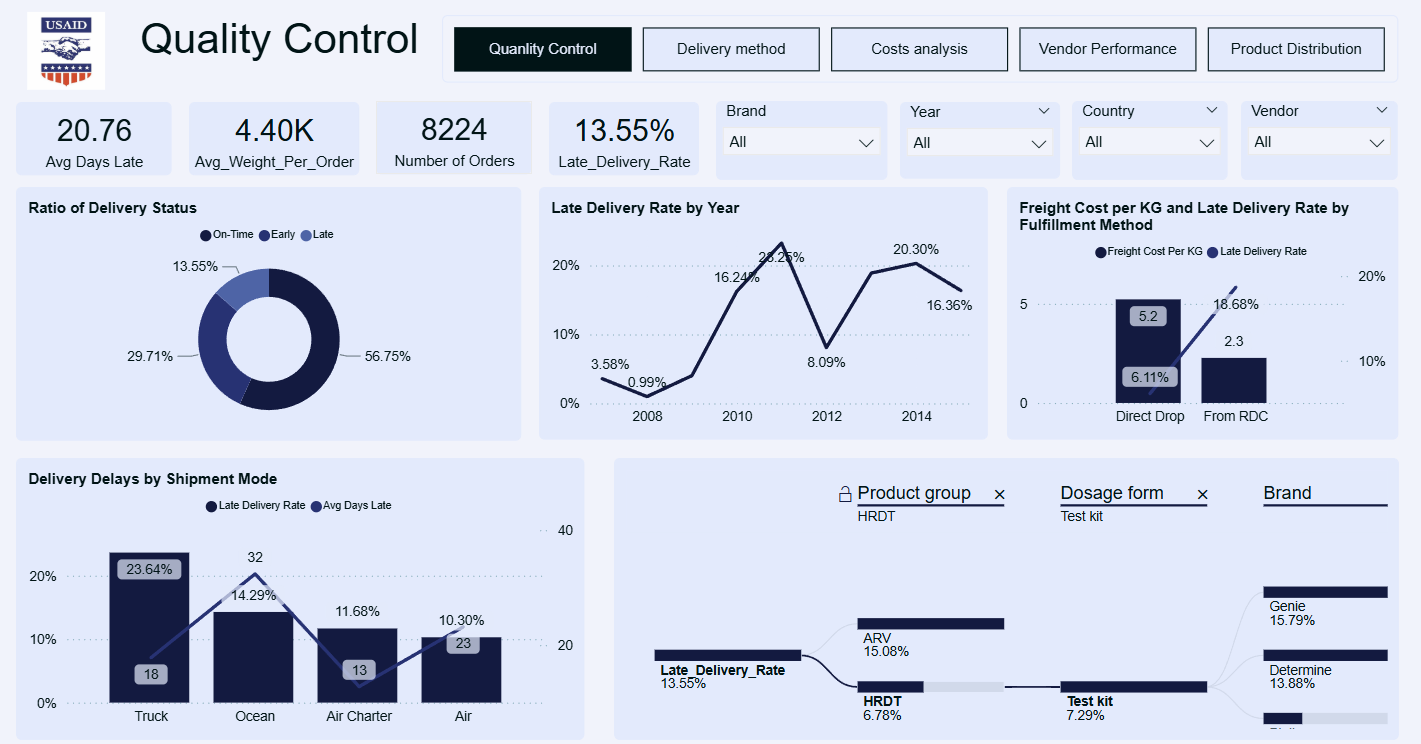

Layout of this report page (visuals, bound fields, positions):
{"tool":"powerbi","page":{"name":"Quanlity Control","canvas":[1280,720],"ordinal":0},"visuals":[{"type":"donutChart","title":"Ratio of Delivery Status","fields":{"Category":["data_cleaned.Delivery_Status"],"Y":["CountNonNull(data_cleaned.Delivery_Status)"]},"box":[18.1,170.1,447.6,225],"z":0},{"type":"card","fields":{"Values":["data_cleaned.Avg_Days_Late"]},"box":[17.7,94.9,138.3,65],"z":1000},{"type":"lineStackedColumnComboChart","title":"Delivery Delays by Shipment Mode","fields":{"Category":["data_cleaned.shipment mode"],"Y":["data_cleaned.Late_Delivery_Rate"],"Y2":["data_cleaned.Avg_Days_Late"]},"box":[18.1,410.2,504.3,249.7],"z":2000},{"type":"lineClusteredColumnComboChart","title":"Freight Cost per KG and Late Delivery Rate by Fulfillment Method","fields":{"Category":["data_cleaned.fulfill via"],"Y2":["data_cleaned.Late_Delivery_Rate"],"Y":["data_cleaned.Freight_Cost_Per_KG"]},"box":[896.5,170.2,346.7,224.3],"z":3000},{"type":"lineChart","fields":{"Category":["data_cleaned.scheduled delivery date.Variation.Date Hierarchy.Year","data_cleaned.scheduled delivery date.Variation.Date Hierarchy.Quarter","data_cleaned.scheduled delivery date.Variation.Date Hierarchy.Month","data_cleaned.scheduled delivery date.Variation.Date Hierarchy.Day"],"Y":["data_cleaned.Late_Delivery_Rate"]},"box":[481.4,170.1,398.1,224.4],"z":4000},{"type":"decompositionTreeVisual","fields":{"Analyze":["data_cleaned.Late_Delivery_Rate"],"ExplainBy":["data_cleaned.product group","data_cleaned.dosage form","data_cleaned.brand"]},"box":[547.7,410.2,696.1,249.7],"z":5000},{"type":"slicer","fields":{"Values":["data_cleaned.scheduled delivery date.Variation.Date Hierarchy.Year"]},"box":[801.5,94.9,141.9,68.3],"z":6000},{"type":"card","fields":{"Values":["data_cleaned.Avg_Weight_Per_Order"]},"box":[171.1,94.9,150.7,64.7],"z":7000},{"type":"slicer","fields":{"Values":["data_cleaned.country"]},"box":[954.5,94,138.3,70],"z":8000},{"type":"slicer","fields":{"Values":["data_cleaned.vendor"]},"box":[1103.9,94,139.2,70],"z":9000},{"type":"textbox","box":[107.4,18.1,288.3,76],"z":10000},{"type":"slicer","fields":{"Values":["data_cleaned.brand"]},"box":[638.4,94.1,152,70],"z":11000},{"type":"pageNavigator","box":[395.7,18.1,848.1,60.3],"z":12000},{"type":"card","fields":{"Values":["Count(data_cleaned.id)"]},"box":[336.9,94,138.3,64.7],"z":13000},{"type":"image","box":[18.1,0,89.3,98.9],"z":14000},{"type":"card","fields":{"Values":["data_cleaned.Late_Delivery_Rate"]},"box":[490.3,94.9,133,64.7],"z":15000}]}

Visuals, with their boxes on the page's 1280x720 design canvas (x1, y1, x2, y2). These are canvas units, not pixel positions in the 1421x744 screenshot, which may show the page scaled, cropped or inside an application window:
"Ratio of Delivery Status" donutChart: box(18, 170, 466, 395)
card - data_cleaned.Avg_Days_Late: box(18, 95, 156, 160)
"Delivery Delays by Shipment Mode" lineStackedColumnComboChart: box(18, 410, 522, 660)
"Freight Cost per KG and Late Delivery Rate by Fulfillment Method" lineClusteredColumnComboChart: box(896, 170, 1243, 394)
lineChart - data_cleaned.scheduled delivery date.Variation.Date Hierarchy.Year x data_cleaned.scheduled delivery date.Variation.Date Hierarchy.Quarter: box(481, 170, 880, 394)
decompositionTreeVisual - data_cleaned.Late_Delivery_Rate x data_cleaned.product group: box(548, 410, 1244, 660)
slicer - data_cleaned.scheduled delivery date.Variation.Date Hierarchy.Year: box(802, 95, 943, 163)
card - data_cleaned.Avg_Weight_Per_Order: box(171, 95, 322, 160)
slicer - data_cleaned.country: box(954, 94, 1093, 164)
slicer - data_cleaned.vendor: box(1104, 94, 1243, 164)
textbox: box(107, 18, 396, 94)
slicer - data_cleaned.brand: box(638, 94, 790, 164)
pageNavigator: box(396, 18, 1244, 78)
card - Count(data_cleaned.id): box(337, 94, 475, 159)
image: box(18, 0, 107, 99)
card - data_cleaned.Late_Delivery_Rate: box(490, 95, 623, 160)
